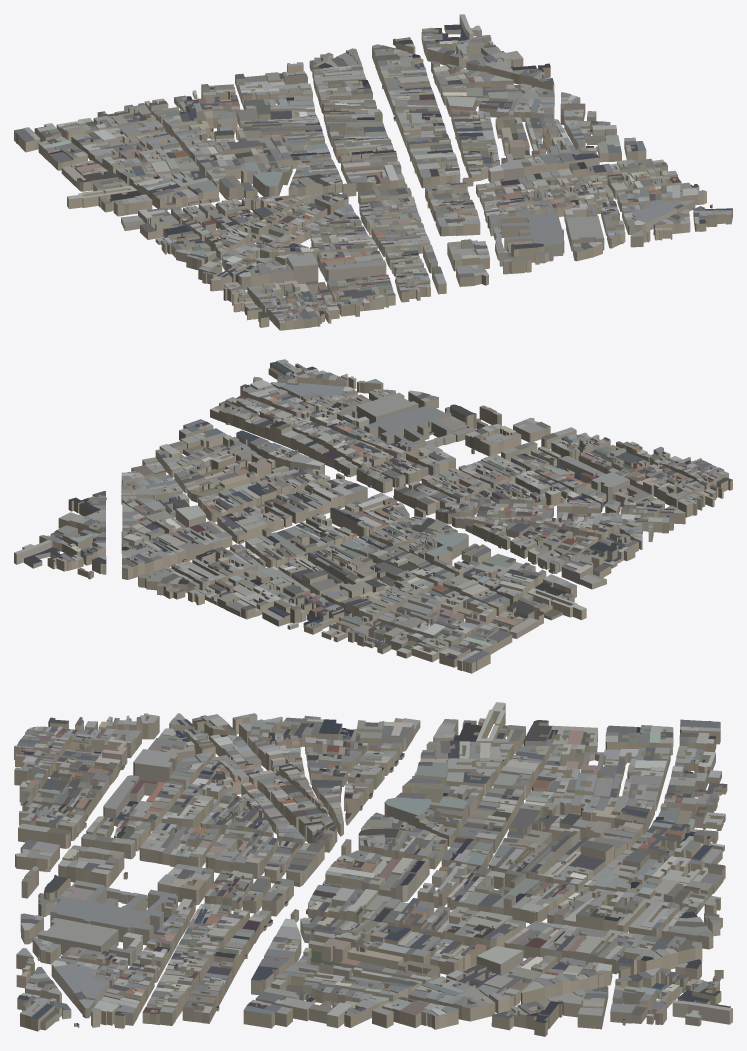
3 views of the same model, one above another, from view 1: azimuth 30°, elevation 25°; view 2: azimuth 150°, elevation 25°; view 3: azimuth 270°, elevation 25° (orthographic). The views are drawn at different scales.
Parts seen in each view (by area): view 1: tuile; view 2: tuile; view 3: tuile.
Part boxes in pixels (left/top/right/bottom): tuile: left=14, top=14, right=732, bottom=330; tuile: left=14, top=359, right=732, bottom=673; tuile: left=14, top=702, right=732, bottom=1036.
Size of the model in its own units: 1092 by 43.32 by 1032.
